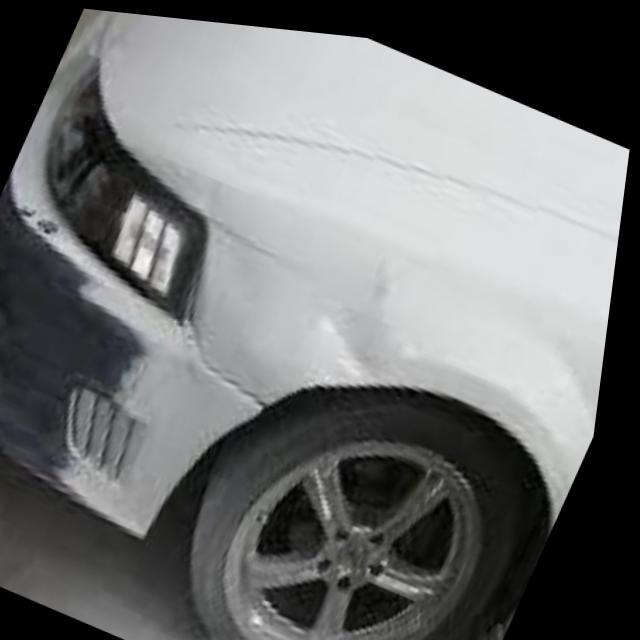dent: (325, 245, 436, 376)
no part: (0, 182, 168, 497)
